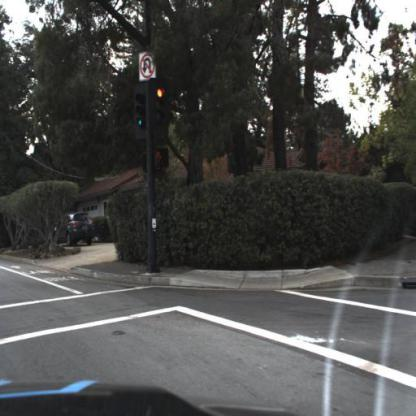car: (50, 212, 101, 253)
trafficLight-Green: (134, 83, 150, 143)
trafficLight-Red: (152, 82, 169, 139)
